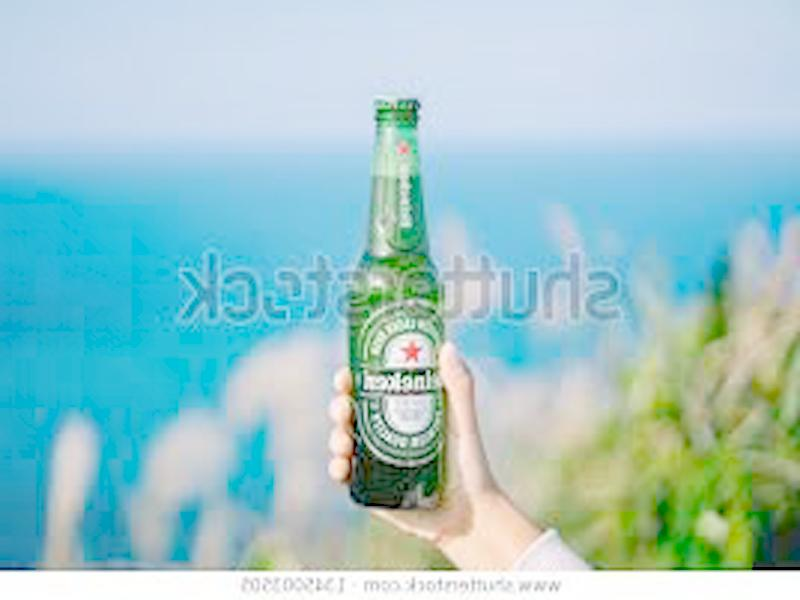Beer: (348, 96, 447, 511)
